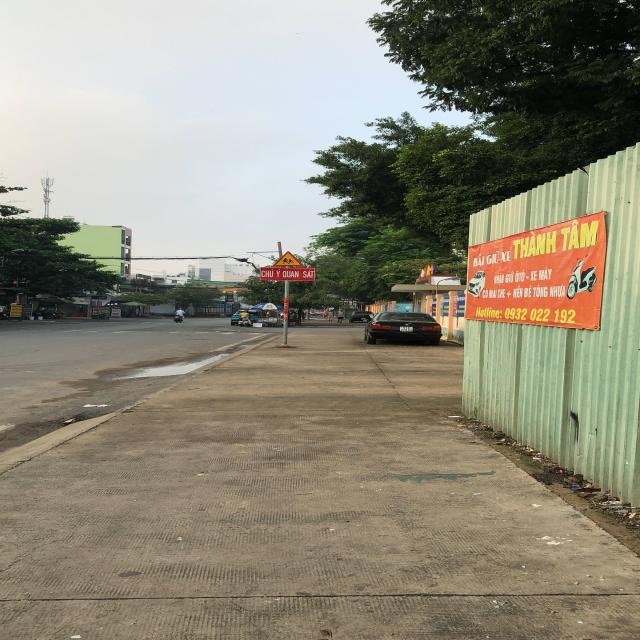Bien bao tre em: (269, 251, 306, 267)
